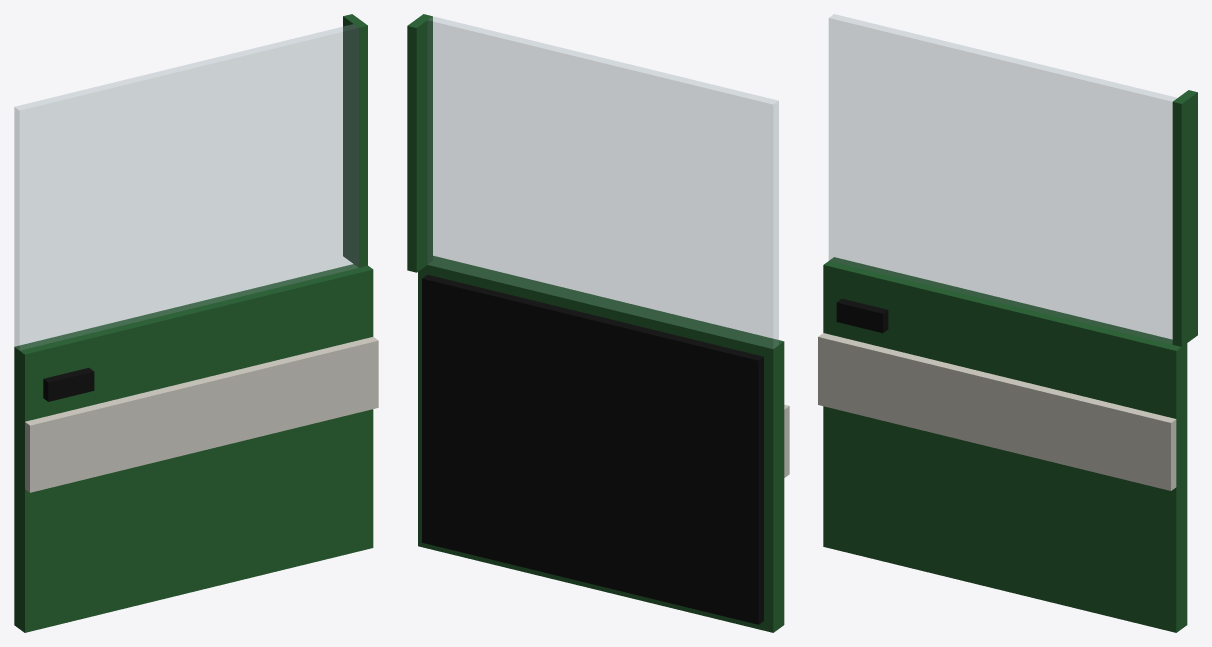
Rendered from step_van_front_door.glb.
3 views of the same model, side by side, from view 1: azimuth 30°, elevation 25°; view 2: azimuth 150°, elevation 25°; view 3: azimuth 330°, elevation 25° (orthographic).
Parts seen in each view (by area): view 1: body:compound; view 2: body:compound; view 3: body:compound.
Part boxes in pixels (x1=…): body:compound: x1=14, y1=14, x2=378, y2=632; body:compound: x1=407, y1=14, x2=789, y2=632; body:compound: x1=818, y1=14, x2=1197, y2=632.
Bounding box in the file's own units: 1.19 × 1.69 × 0.1562.
